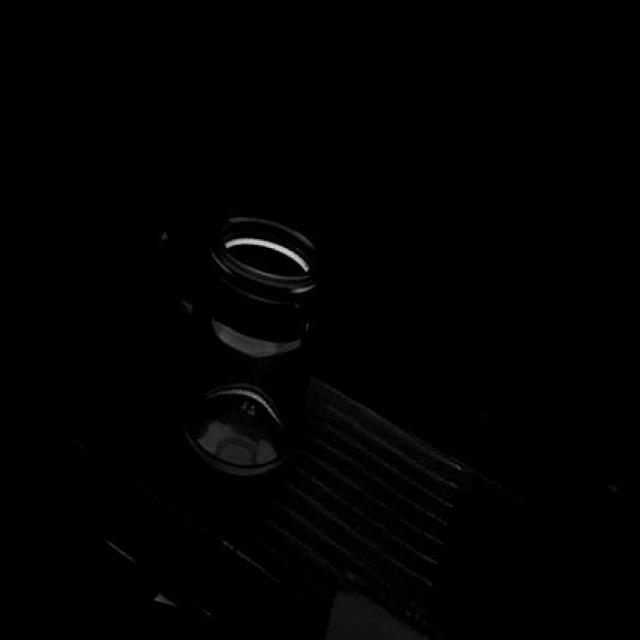defect: (304, 318, 311, 334)
glass: (162, 200, 342, 505)
